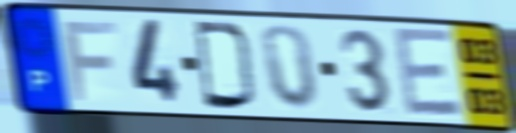0: (261, 22, 321, 114)
3: (338, 26, 396, 116)
4: (129, 16, 189, 111)
D: (191, 17, 259, 113)
E: (390, 24, 466, 120)
F: (60, 19, 120, 104)
